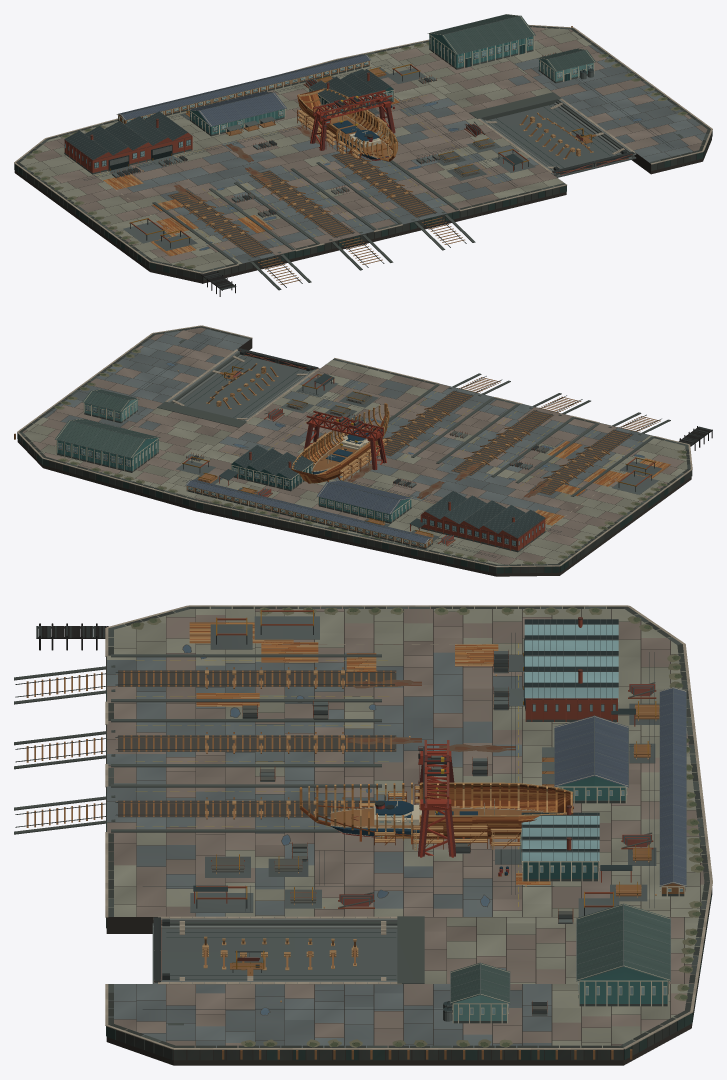
File: kit-D0jbw9gG.glb
3 views of the same model, one above another, from view 1: azimuth 30°, elevation 25°; view 2: azimuth 150°, elevation 25°; view 3: azimuth 270°, elevation 25° (orthographic). The views are drawn at different scales.
Visible parts, largest first — view 1: yard-slabs, sheds, quay, dock, yard-markings, yard-topdressing, yard-joints, yard-stock, timber-hull, gantry, launch; view 2: yard-slabs, quay, sheds, dock, yard-topdressing, yard-markings, yard-joints, yard-stock, timber-hull, gantry, launch; view 3: yard-slabs, quay, sheds, dock, yard-topdressing, yard-markings, yard-joints, yard-stock, timber-hull, launch, gantry.
Boxes of the visible parts, x1,y1,x2,y2 form: yard-slabs: (20,26,708,271); sheds: (64,14,595,174); quay: (14,24,712,296); dock: (469,92,636,177); yard-markings: (96,95,503,257); yard-topdressing: (16,25,710,272); yard-joints: (24,28,704,269); yard-stock: (111,52,593,248); timber-hull: (297,88,397,161); gantry: (310,90,395,150); launch: (319,104,391,160); yard-slabs: (22,327,689,565); quay: (14,325,712,576); sheds: (55,389,545,552); dock: (157,348,319,427); yard-topdressing: (19,326,690,565); yard-markings: (223,382,668,524); yard-joints: (24,329,685,564); yard-stock: (182,373,656,546); timber-hull: (291,403,389,483); gantry: (304,410,386,469); launch: (312,427,373,474); yard-slabs: (107,606,709,1047); quay: (14,605,712,1065); sheds: (450,617,686,1023); dock: (152,916,424,984); yard-topdressing: (108,606,709,1047); yard-markings: (118,622,550,906); yard-joints: (106,609,703,1047); yard-stock: (193,610,659,1021); timber-hull: (299,782,573,850); launch: (330,799,543,837); gantry: (418,740,455,857).
Size of the model in its own units: 850 by 77.71 by 565.
